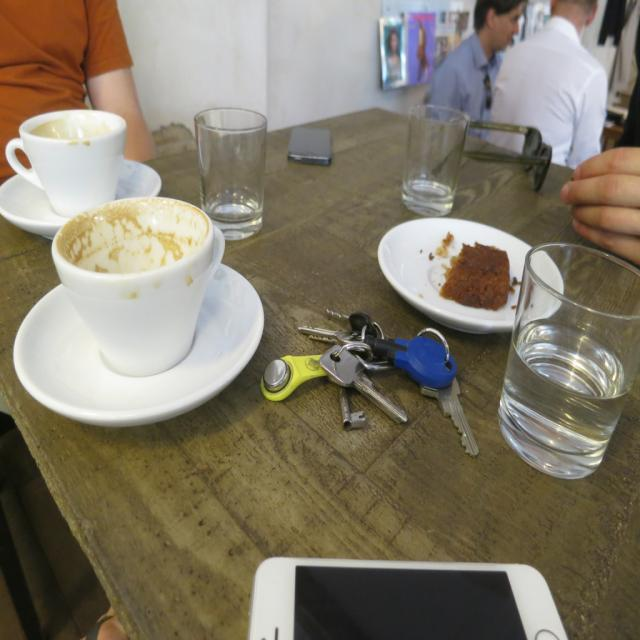non-organic waste: (17, 258, 259, 430)
